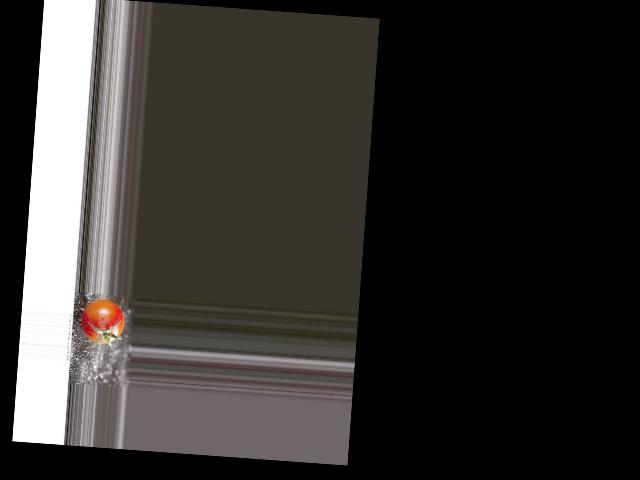tomato: (80, 298, 125, 345)
